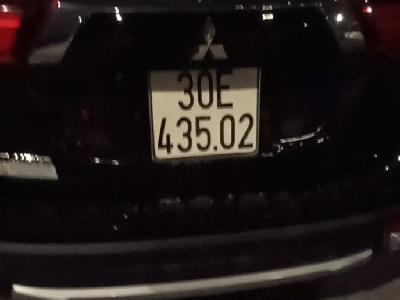car: (147, 69, 261, 161)
